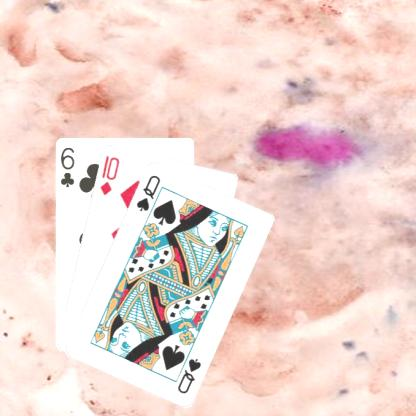10D: (97, 152, 121, 196)
6C: (57, 145, 76, 188)
QS: (133, 172, 162, 213), (174, 355, 202, 395)
